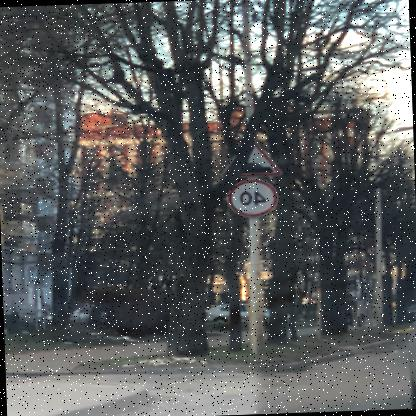speedlimit: (229, 177, 282, 217)
